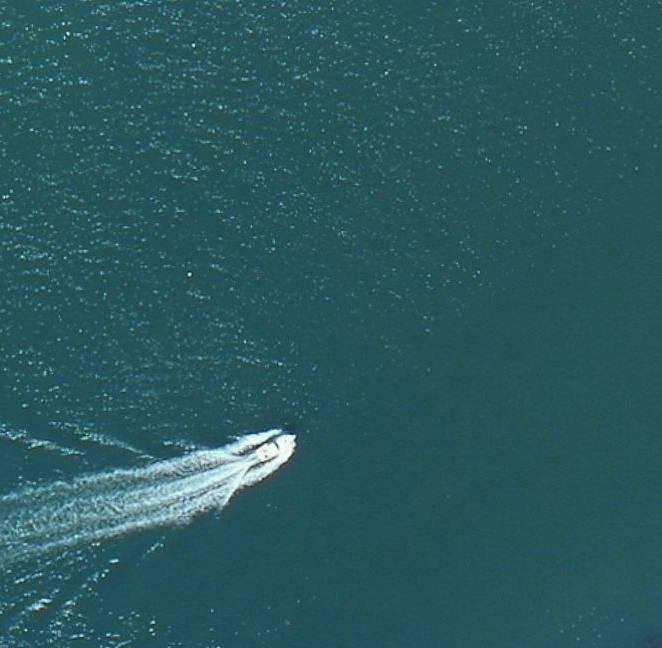ship: (238, 428, 300, 473)
